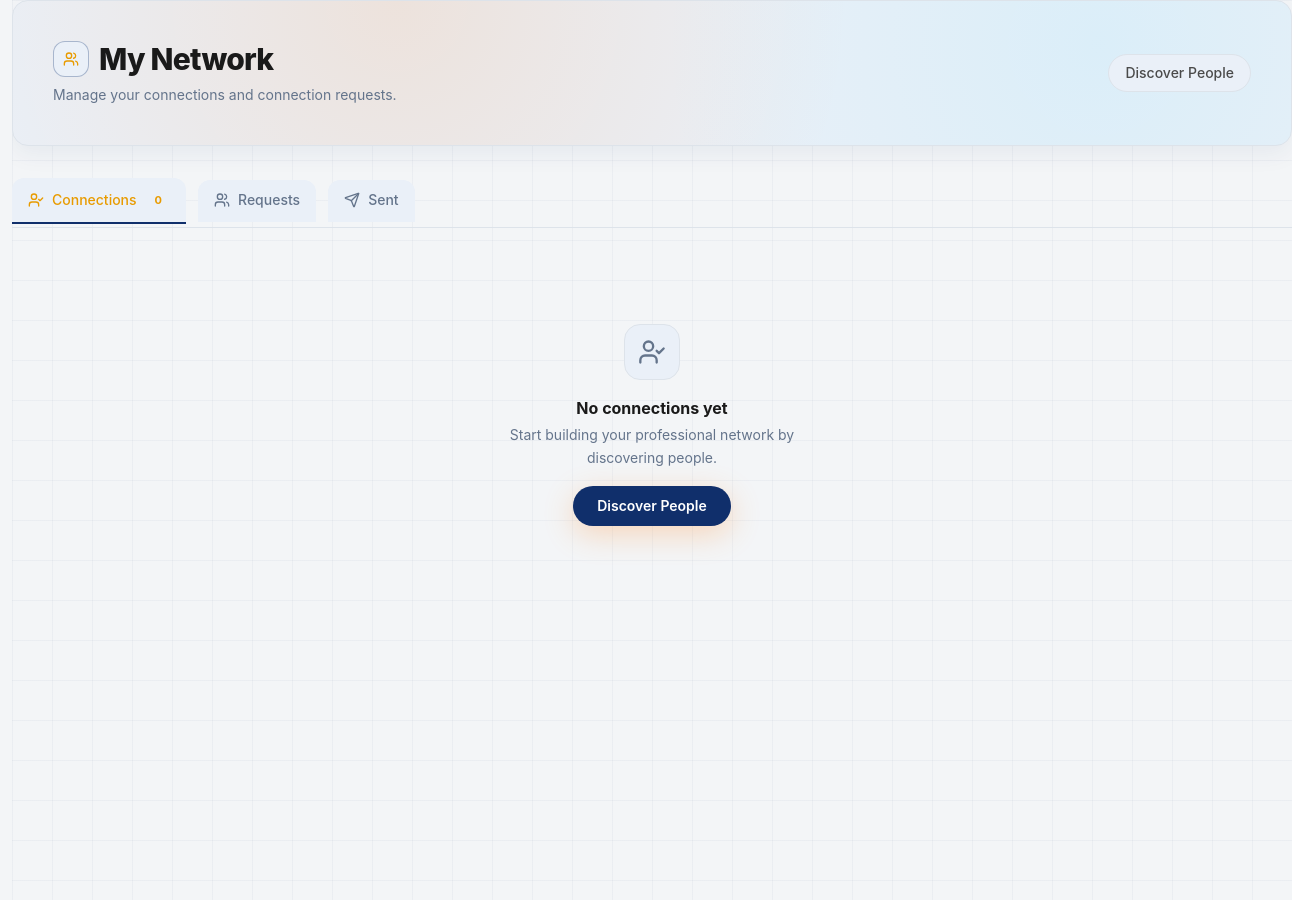
Test case: 12. Accepted request disappears from Requests list
Click the tab "Requests": point(257, 201) left=198, top=180, right=316, bottom=222
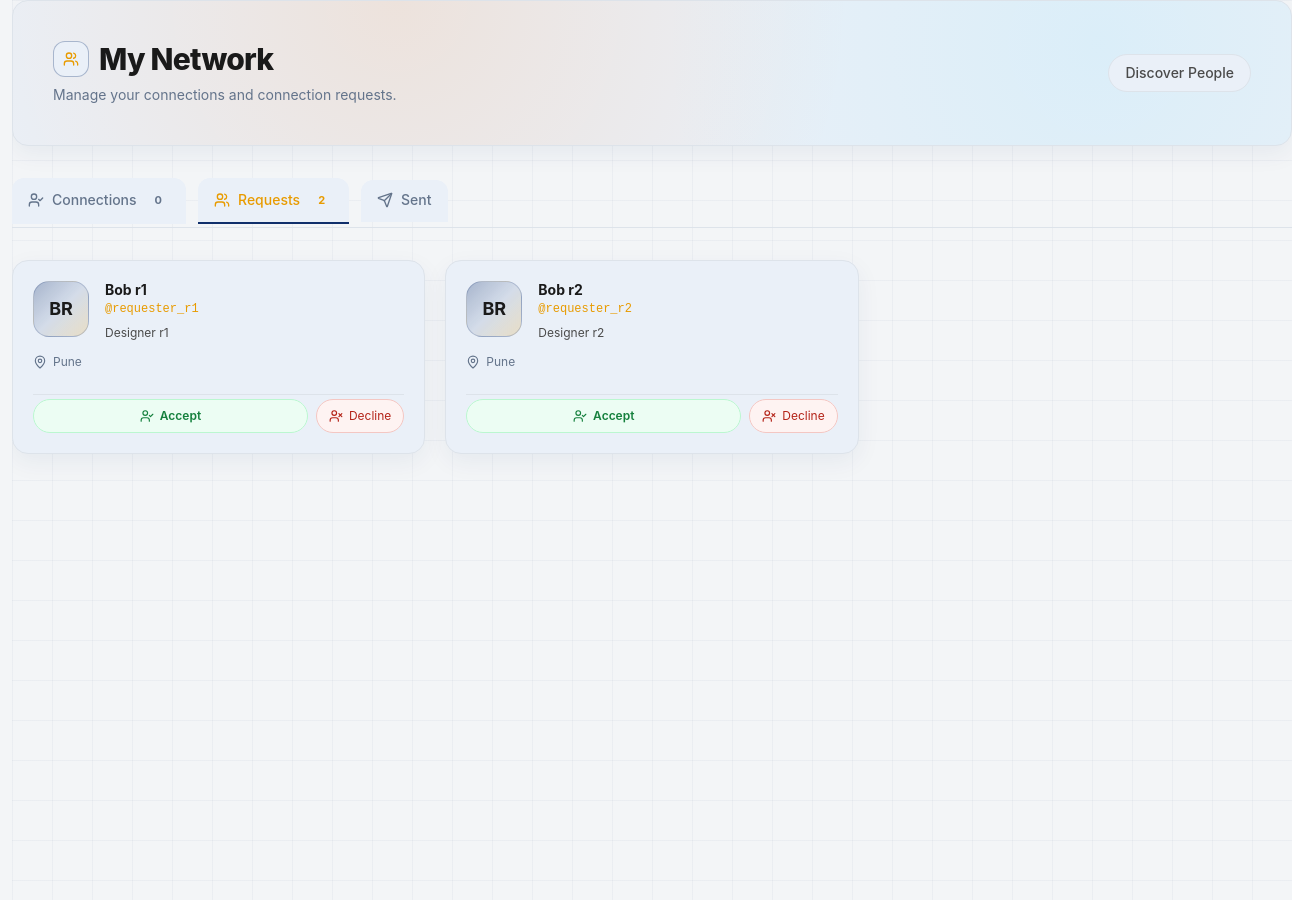
Now the number of elements with test id "connection-card" is 2, box left=12, top=260, right=425, bottom=454; left=445, top=260, right=859, bottom=454
Click the button with test id "accept-btn": point(170, 416) left=33, top=399, right=308, bottom=433
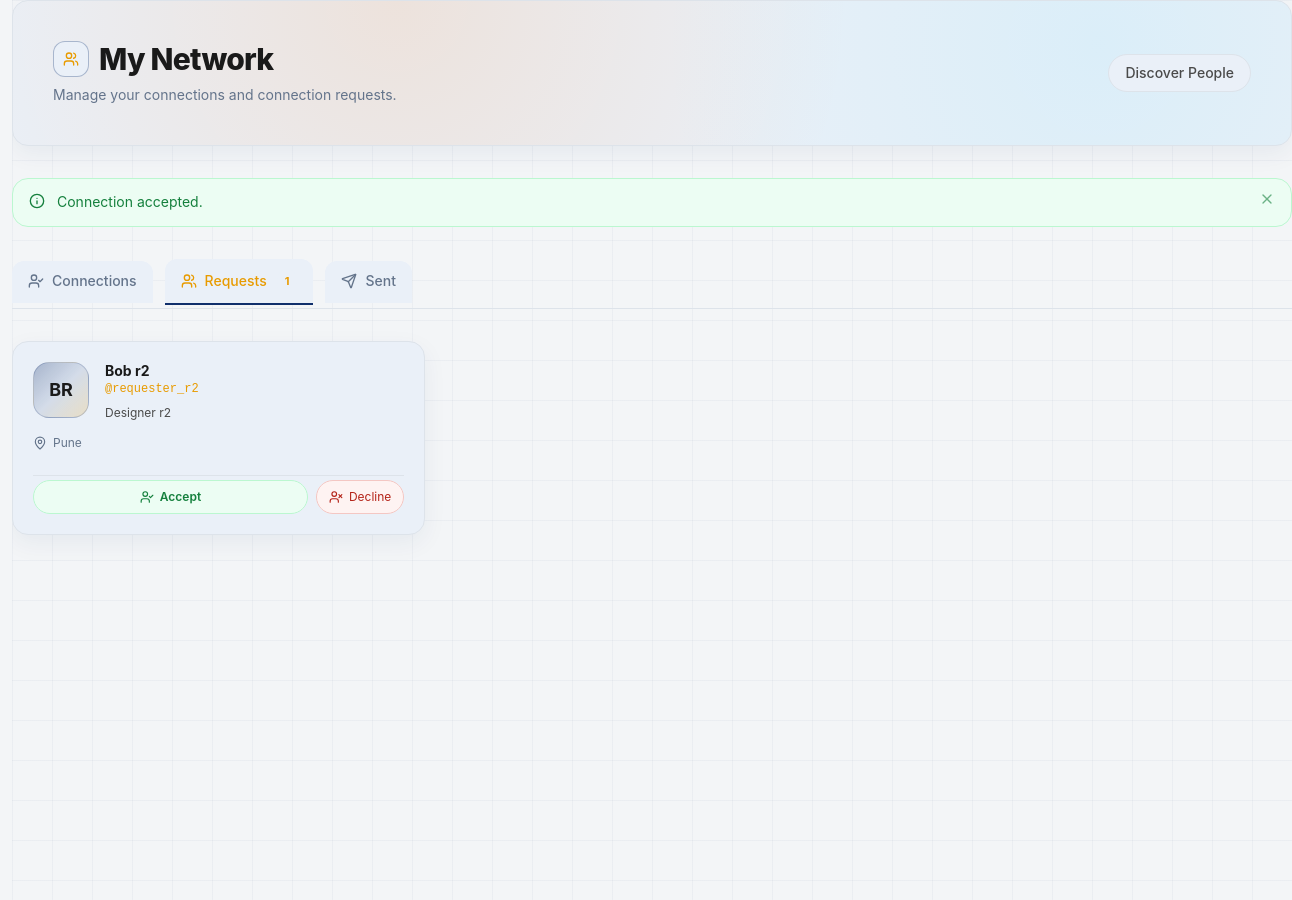
Now the number of elements with test id "connection-card" is 1, box left=12, top=341, right=425, bottom=535
